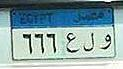6: (46, 31, 60, 54), (21, 32, 33, 56), (34, 31, 45, 55)
ain: (65, 30, 80, 54)
laam: (82, 30, 96, 53)
waw: (99, 33, 112, 52)
